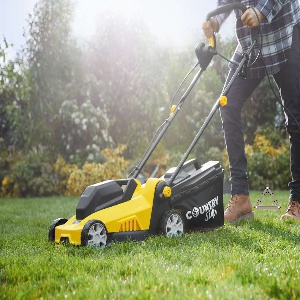triangle: (252, 184, 281, 211)
